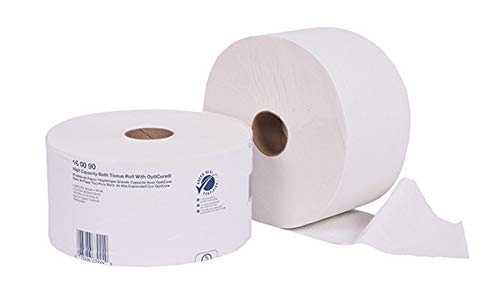Tissue: (41, 108, 254, 267)
